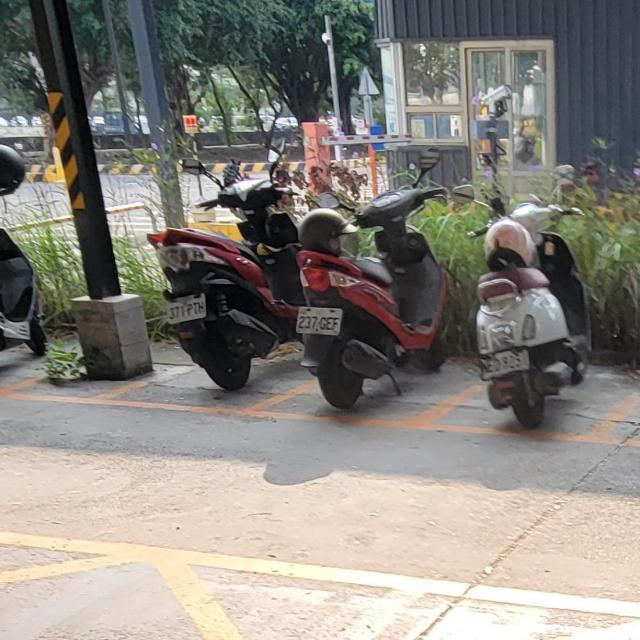W: (291, 303, 343, 337), (162, 292, 208, 325)
